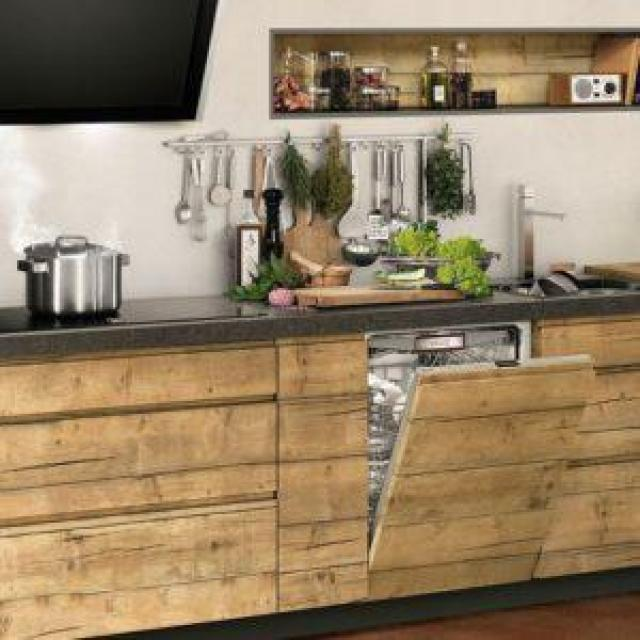dishwasher: (358, 311, 602, 604)
